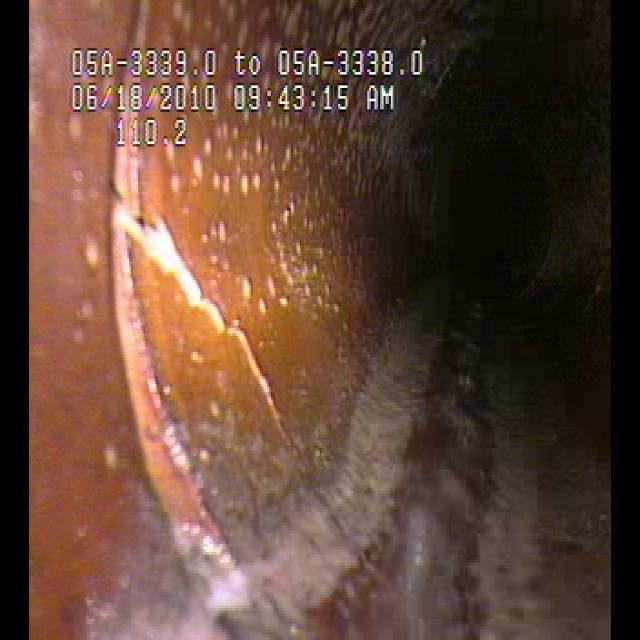Crack: (131, 191, 360, 515)
